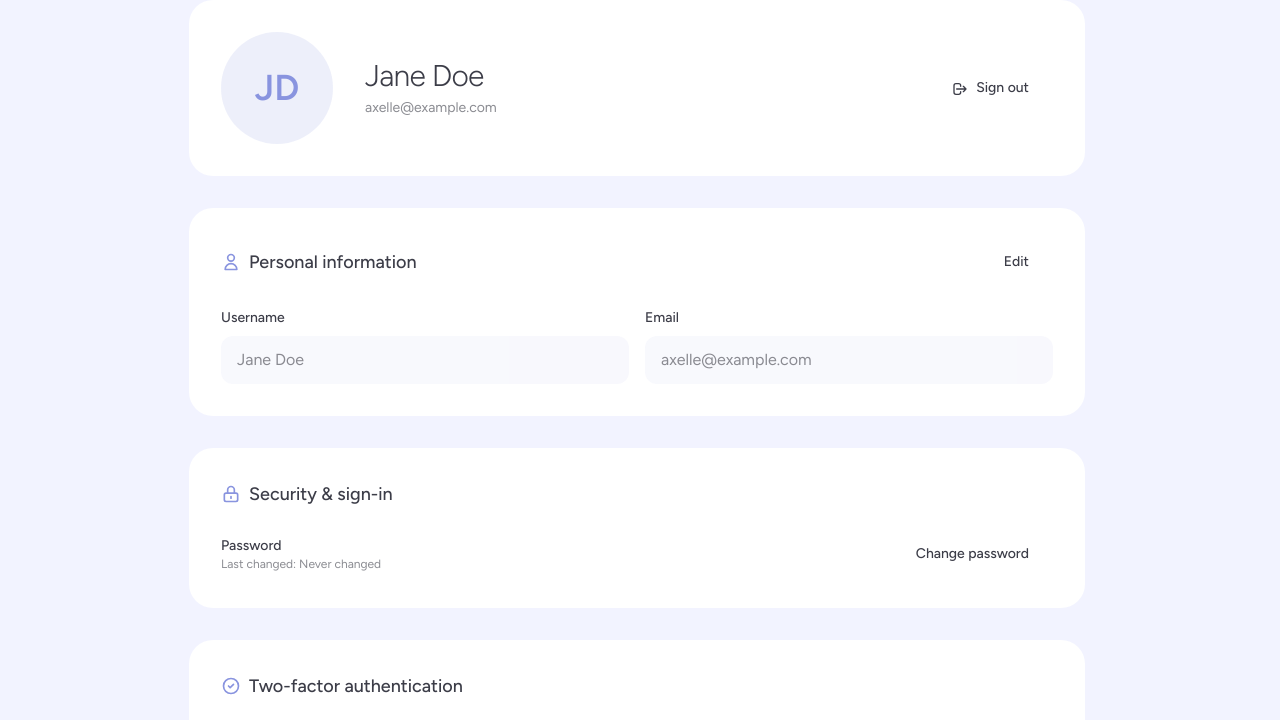
Scenario: Profile › opens the sign-out confirmation
The width and height of the screenshot is (1280, 720).
Click the button "Sign out". click: (991, 88)
box: [928, 66, 1053, 110]
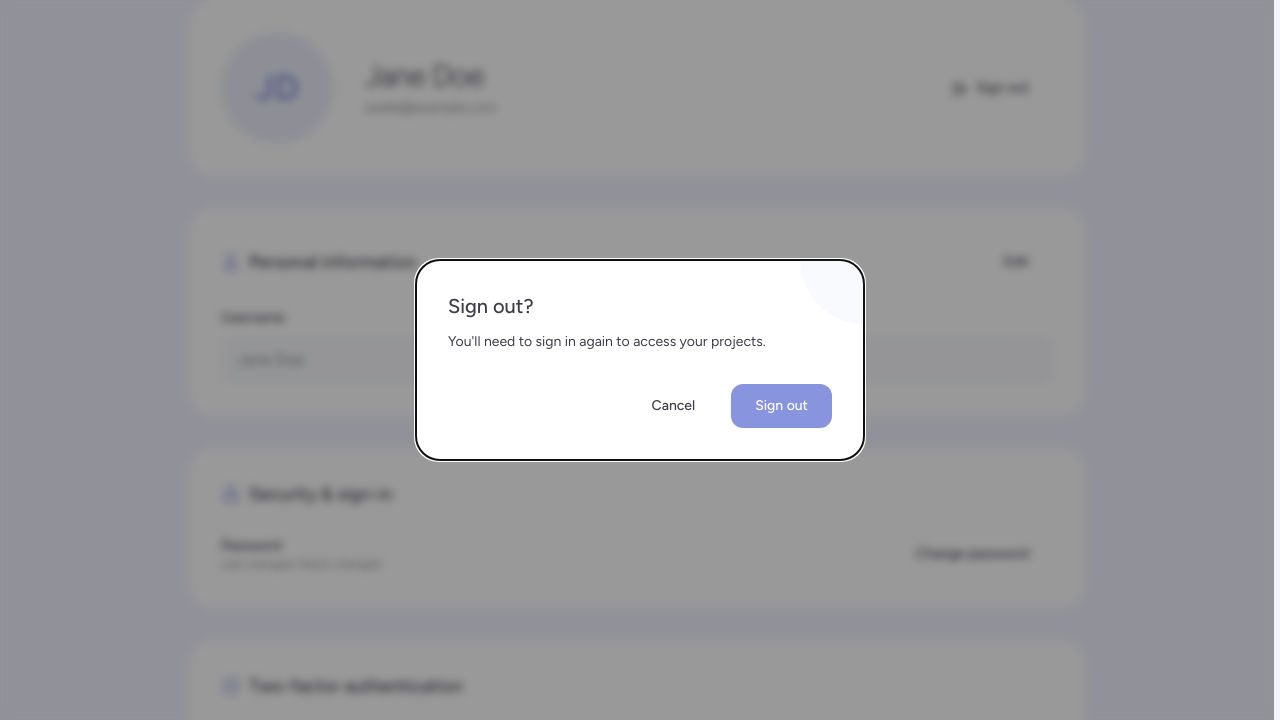
Expected: the text "You'll need to sign in again to access your projects." is shown, [448, 333, 766, 350]
